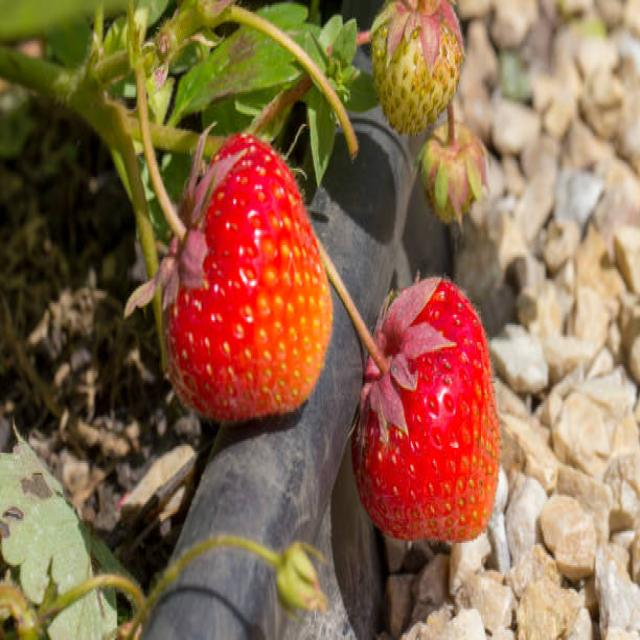Healthy Fruit: (162, 133, 334, 422), (351, 280, 501, 545)
